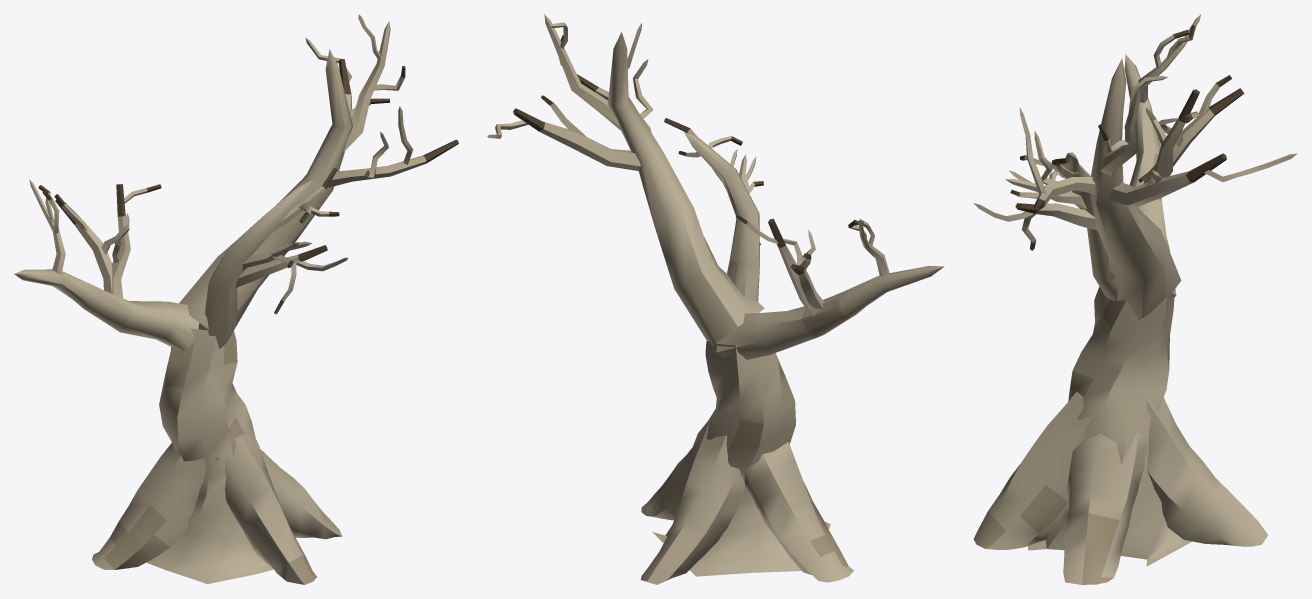
The model's file is dead_tree_a.glb.
3 views of the same model, side by side, from view 1: azimuth 30°, elevation 25°; view 2: azimuth 150°, elevation 25°; view 3: azimuth 270°, elevation 25° (orthographic). The views are drawn at different scales.
Parts seen in each view (by area): view 1: dead_tree_a; view 2: dead_tree_a; view 3: dead_tree_a.
Boxes of the visible parts, x1,y1,x2,y2 form: dead_tree_a: [14, 14, 458, 584]; dead_tree_a: [487, 14, 944, 584]; dead_tree_a: [973, 14, 1297, 584].
Size of the model in its own units: 4.18 by 4.68 by 2.55.
